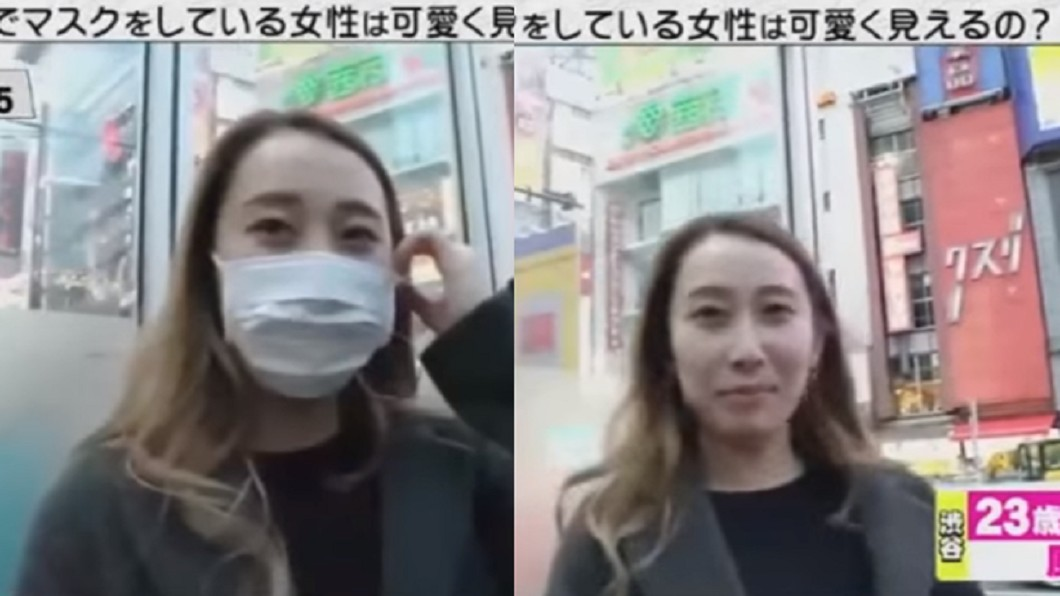mask: (221, 253, 401, 396)
